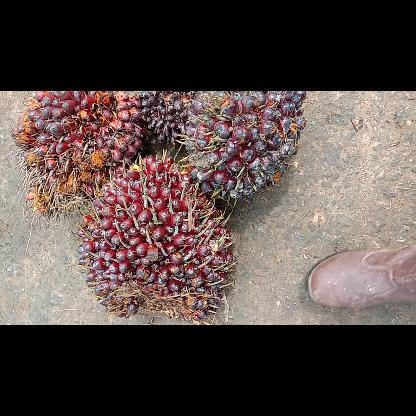Kurang masak: (76, 155, 236, 323), (184, 91, 308, 207)
TBS abnormal: (137, 91, 197, 147)
TBS masak: (10, 92, 148, 216)
